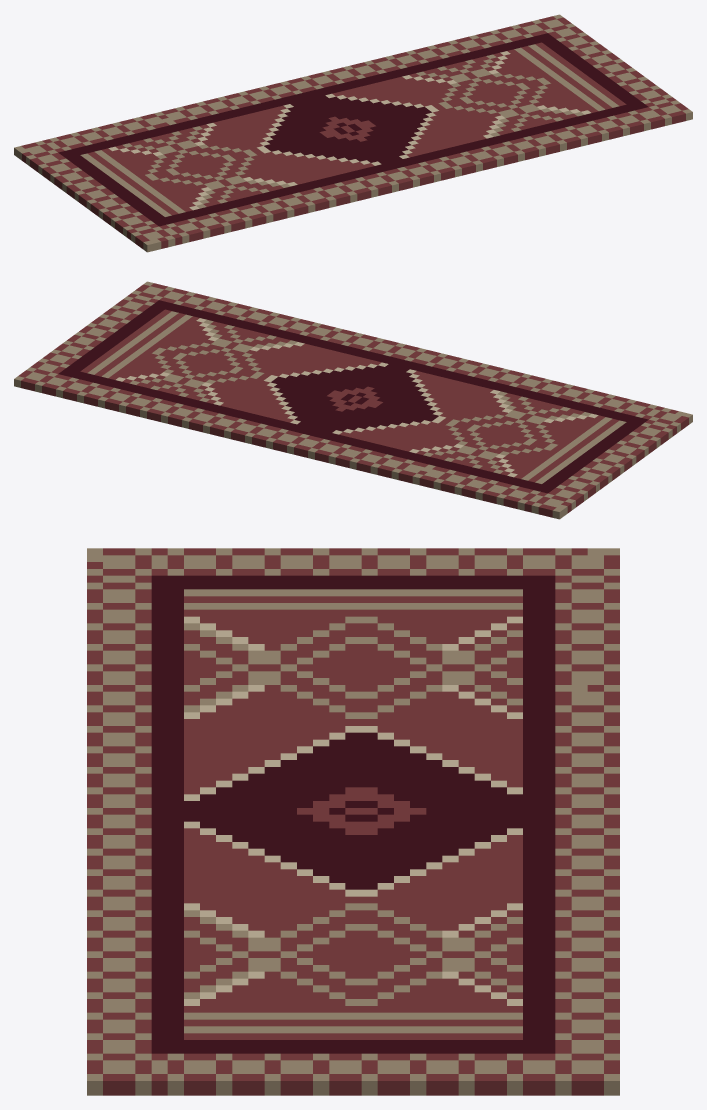
Rendered from Tapis chambre 2.obj.
The picture shows the model from 3 angles, top to bottom: view 1: azimuth 30°, elevation 25°; view 2: azimuth 150°, elevation 25°; view 3: azimuth 270°, elevation 25°; orthographic projection. The views are drawn at different scales.
Parts seen in each view (by area): view 1: Tapis chambre 2; view 2: Tapis chambre 2; view 3: Tapis chambre 2.
Part boxes in pixels (bbox=[...]): Tapis chambre 2: bbox=[14, 14, 692, 252]; Tapis chambre 2: bbox=[14, 281, 692, 519]; Tapis chambre 2: bbox=[87, 548, 619, 1095].
Size of the model in its own units: 78 by 1 by 33.
1 material, 1 textured.
